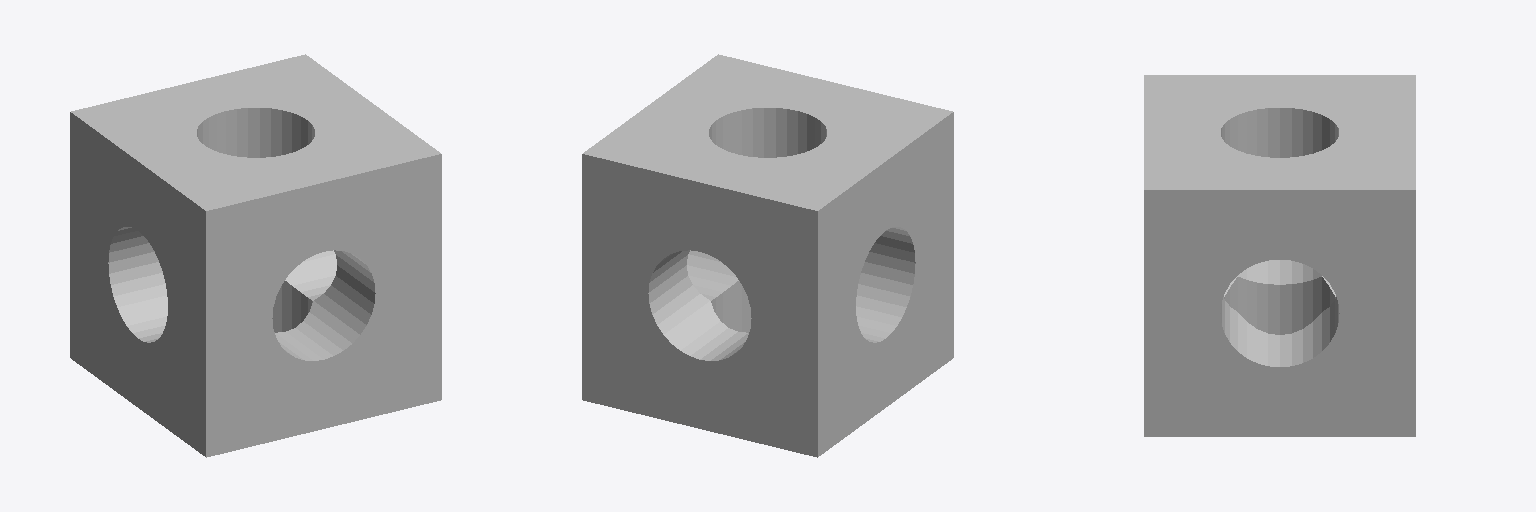
The model's file is Holzwuerfel6.obj.
The picture shows the model from 3 angles: view 1: azimuth 30°, elevation 25°; view 2: azimuth 150°, elevation 25°; view 3: azimuth 270°, elevation 25°; orthographic projection.
Visible parts, largest first — view 1: Holzwürfel.006_Cube.032; view 2: Holzwürfel.006_Cube.032; view 3: Holzwürfel.006_Cube.032.
Boxes of the visible parts, x1,y1,x2,y2 form: Holzwürfel.006_Cube.032: [70, 54, 441, 457]; Holzwürfel.006_Cube.032: [582, 54, 953, 457]; Holzwürfel.006_Cube.032: [1144, 75, 1415, 436].
Bounding box in the file's own units: 0.5332 × 0.5332 × 0.5332.